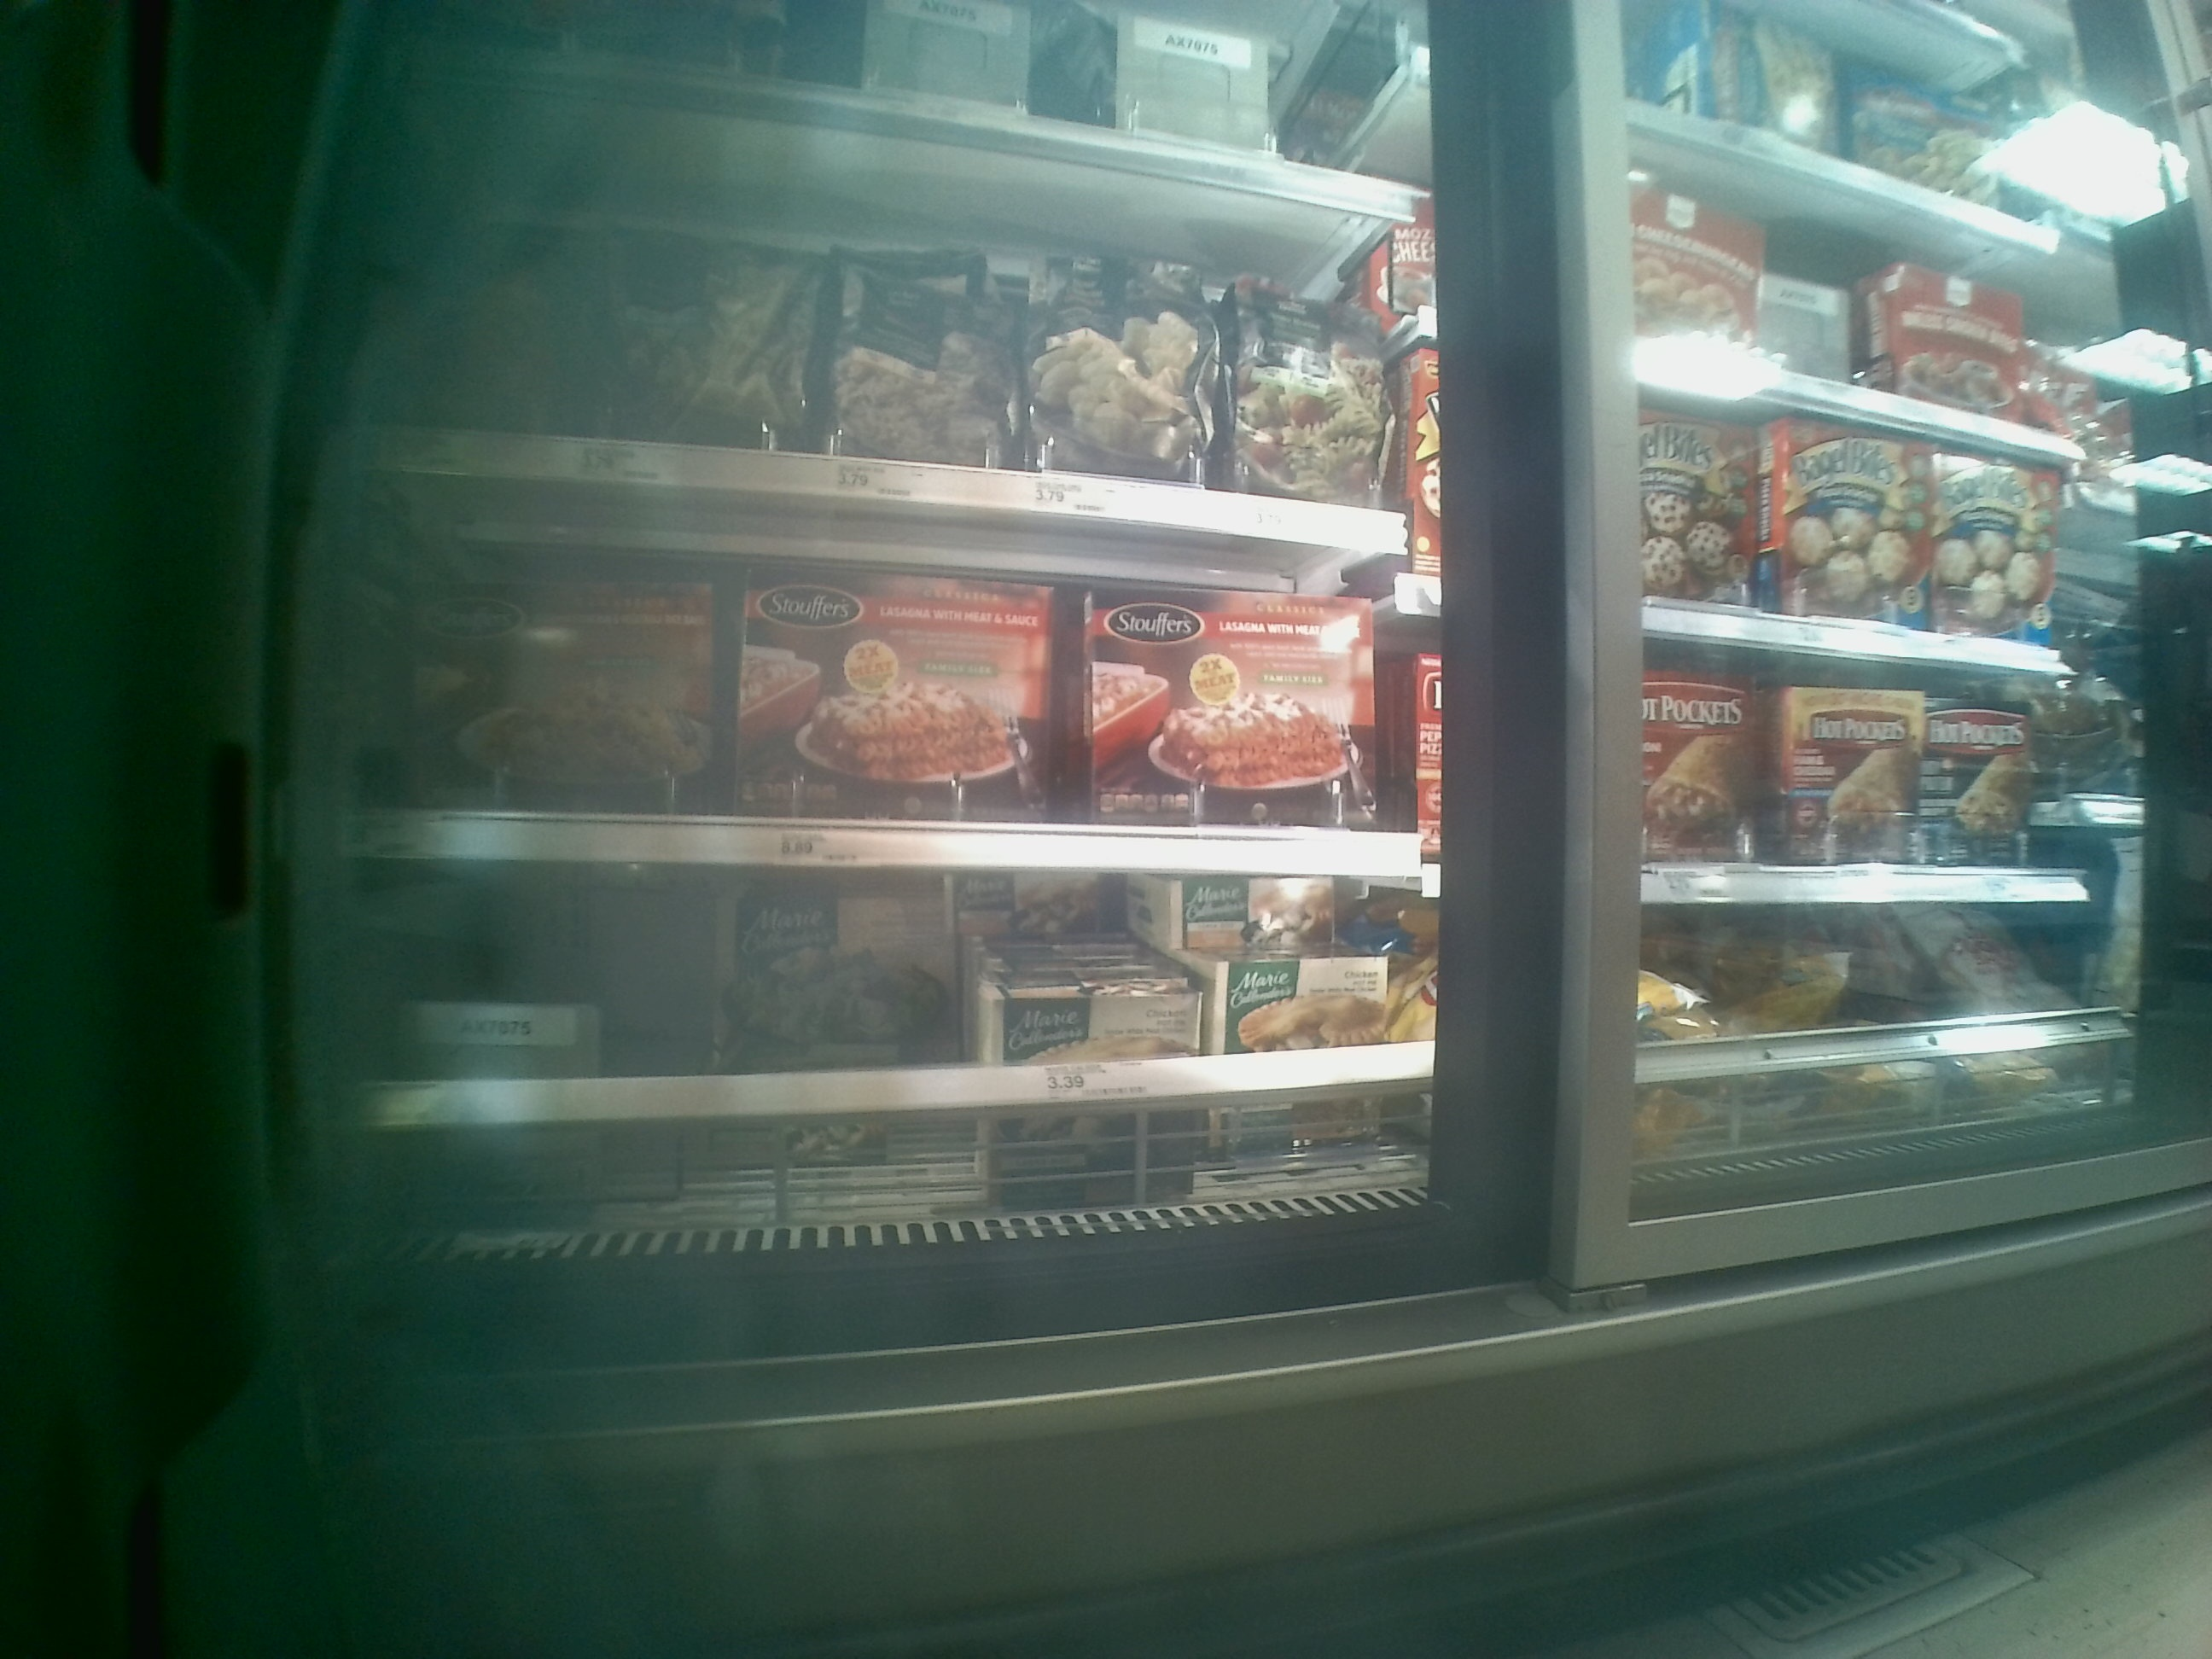frozen-food-shelf: (352, 570, 1426, 884)
